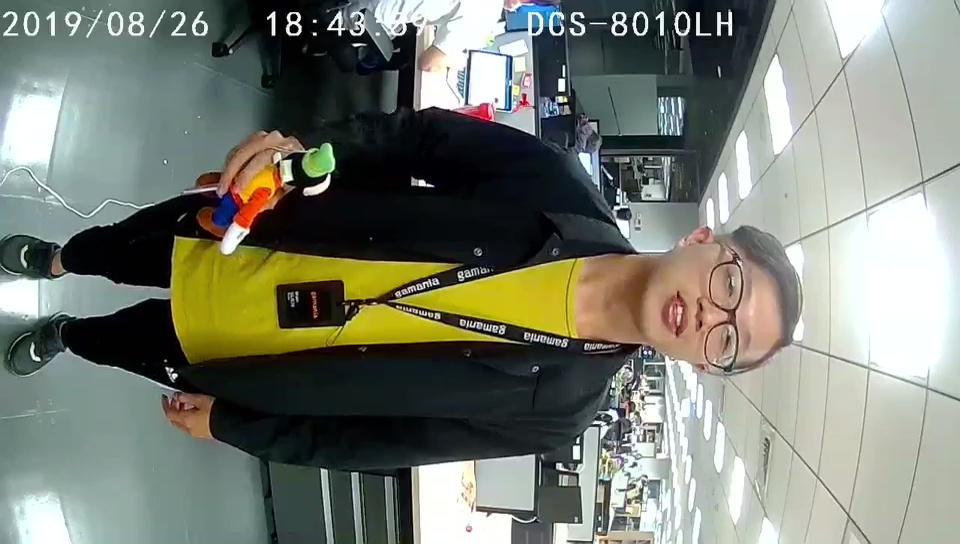goofy: (197, 142, 335, 255)
